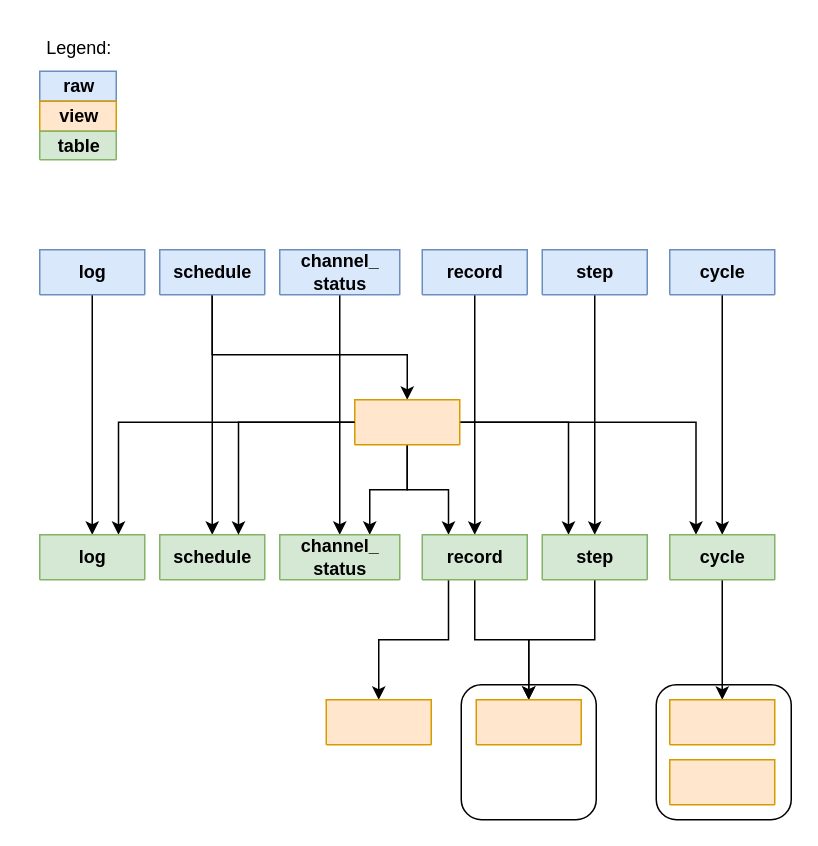
Image size: 818x846. Some labels were removed from this diagram. The centre of each missing label's shape, as x and y in pixels:
cycling data: the point at 721,721
dcir: the point at 528,721
dqdv: the point at 378,721
ids: the point at 406,421
max cycle: the point at 721,781
